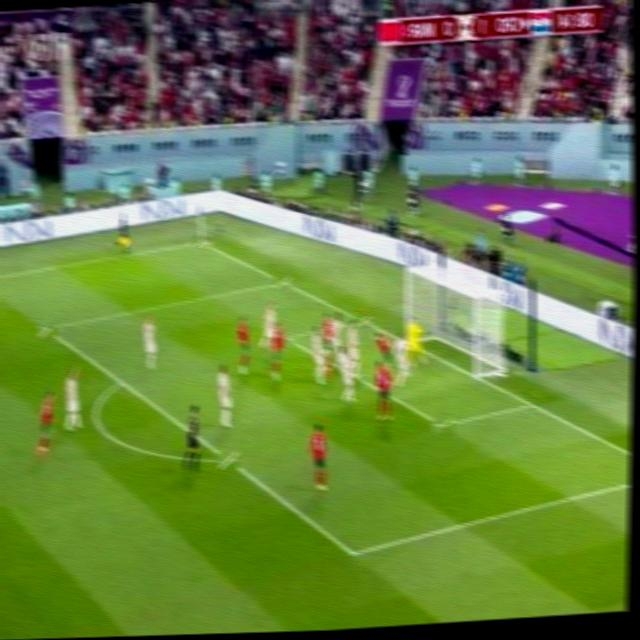bigarea_bottom_inner: (341, 535, 366, 568)
bigarea_top_inner: (36, 316, 56, 338)
bigarea_top_outter: (272, 270, 292, 290)
bottom_arc_area_intersection: (217, 445, 238, 471)
corner: (191, 233, 211, 251)
smallarea_bottom_inner: (430, 408, 454, 438)
smallarea_bottom_outter: (520, 390, 543, 417)
smallarea_top_inner: (276, 326, 294, 347)
smallarea_top_outter: (351, 309, 373, 328)
top_arc_area_intersection: (112, 369, 131, 391)
